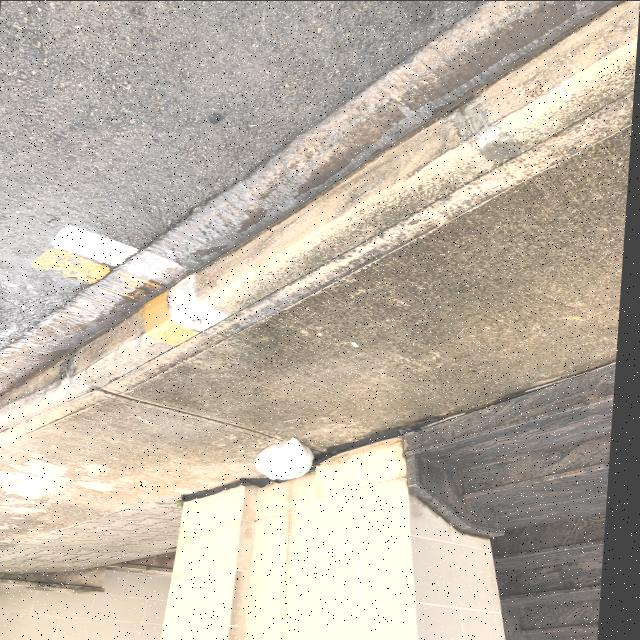Organic Waste -White Bag-: (255, 433, 331, 487)
